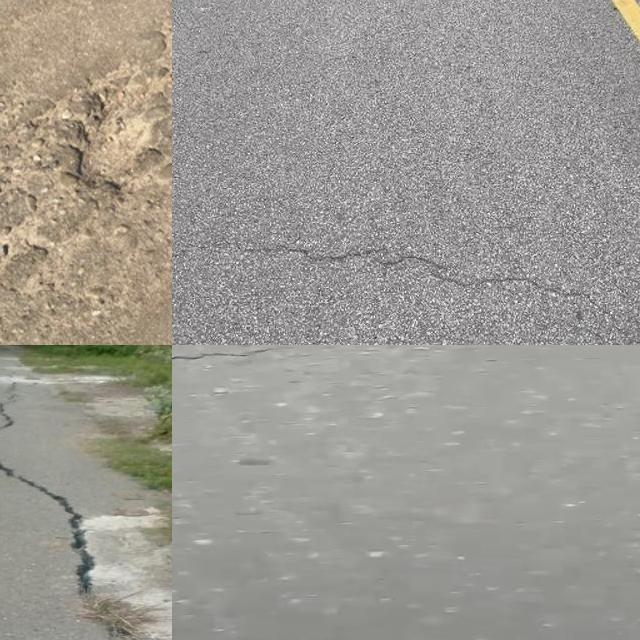Lubang: (75, 75, 169, 188)
Melintang: (172, 229, 640, 345), (172, 345, 281, 371)
Memanjang: (0, 386, 164, 640)
